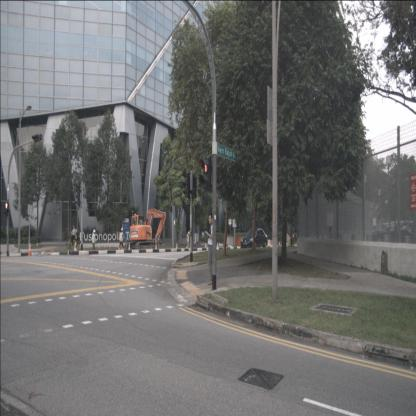barrier: (263, 239, 271, 247), (236, 237, 242, 246)
cone: (28, 241, 32, 257), (74, 242, 77, 252), (204, 242, 208, 249), (128, 242, 131, 251), (216, 242, 220, 248), (155, 242, 157, 250), (176, 244, 178, 250)
